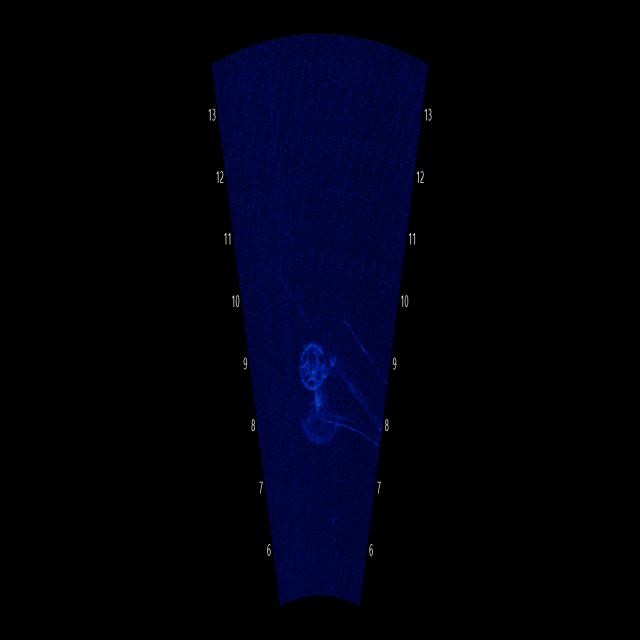circle: (294, 320, 339, 405)
